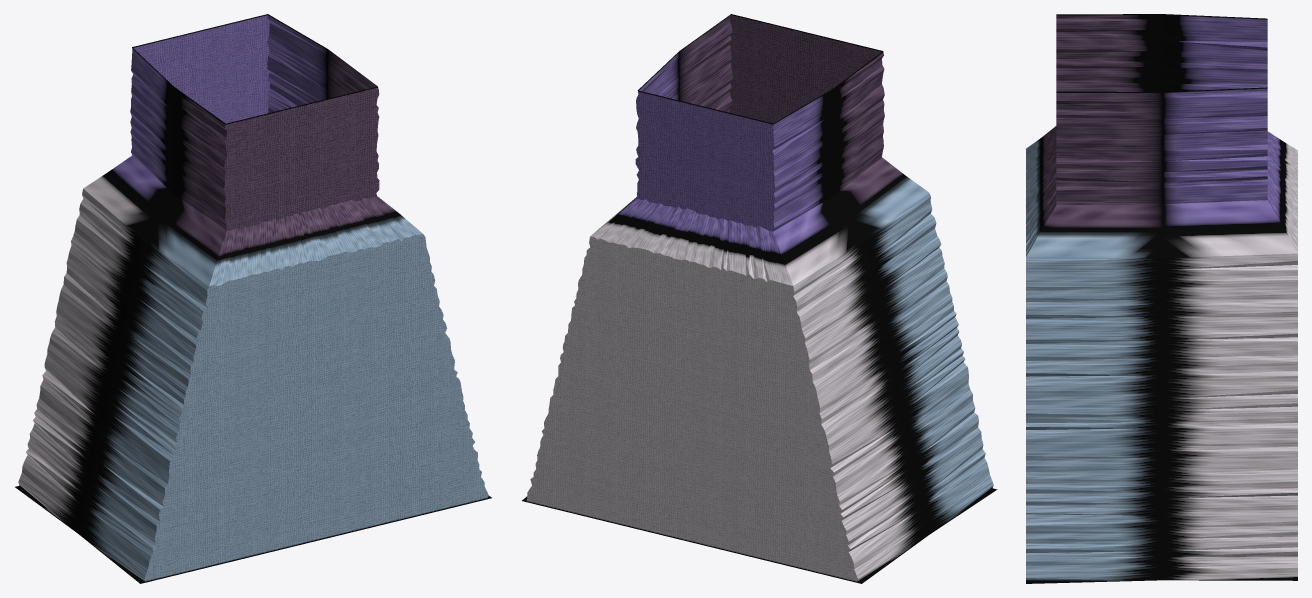
Rendered from generated_rand_2E2EL4UZUS_boxmesh.obj.
3 renders of one model, left to right at view 1: azimuth 30°, elevation 25°; view 2: azimuth 150°, elevation 25°; view 3: azimuth 270°, elevation 25°, orthographic. The views are drawn at different scales.
Size of the model in its own units: 69.89 by 80.65 by 45.
1 material, 1 textured.
